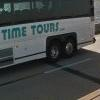buses: (0, 0, 95, 69)
